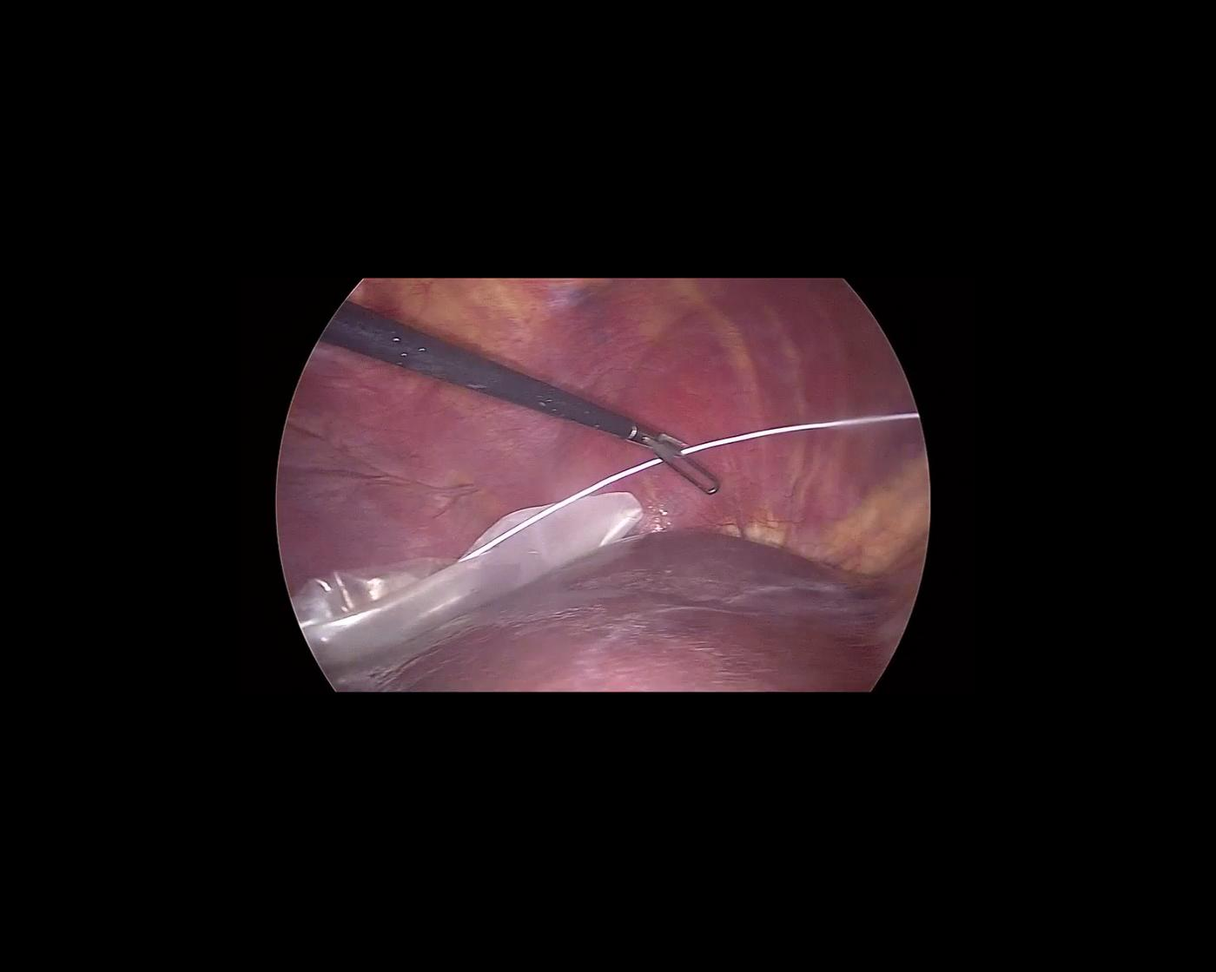Bag: (287, 472, 659, 671)
Forceps: (319, 297, 732, 504)
Liver: (323, 531, 924, 691)
